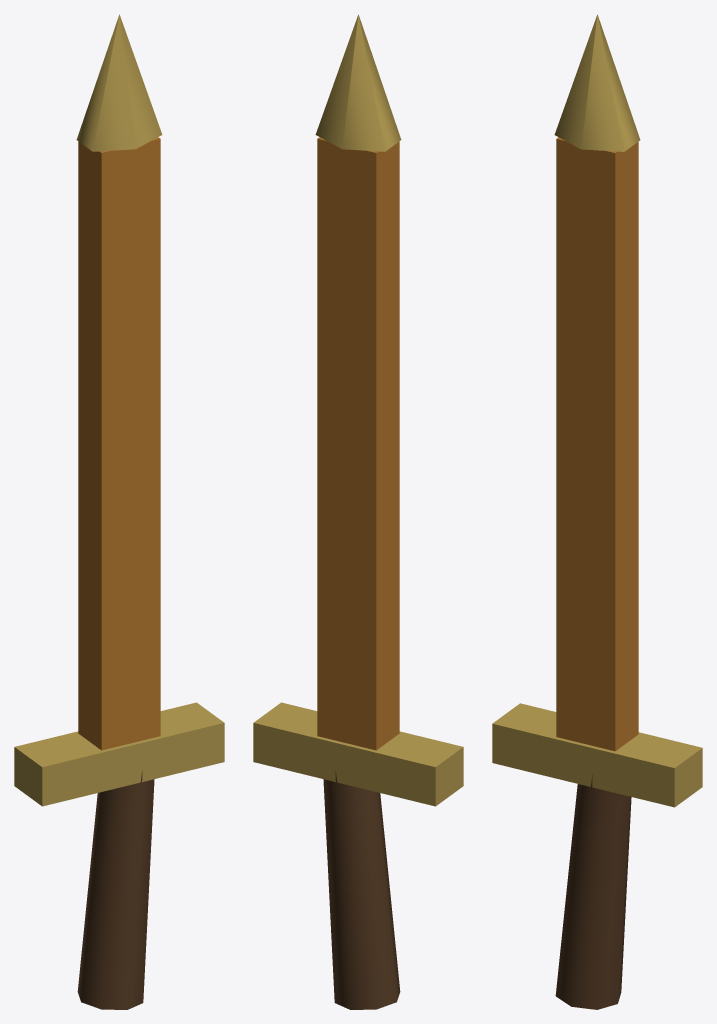
Rendered from wpn_m_07.glb.
3 renders of one model, left to right at view 1: azimuth 30°, elevation 25°; view 2: azimuth 150°, elevation 25°; view 3: azimuth 330°, elevation 25°, orthographic.
Visible parts, largest first — view 1: blade, grip, guard, tip; view 2: blade, grip, guard, tip; view 3: blade, grip, guard, tip.
Part boxes in pixels (x1=…): blade: x1=78, y1=137, x2=160, y2=750; grip: x1=77, y1=770, x2=154, y2=1009; guard: x1=14, y1=702, x2=224, y2=806; tip: x1=76, y1=14, x2=162, y2=151; blade: x1=317, y1=137, x2=399, y2=750; grip: x1=323, y1=770, x2=400, y2=1009; guard: x1=253, y1=702, x2=463, y2=806; tip: x1=315, y1=14, x2=401, y2=151; blade: x1=556, y1=137, x2=638, y2=751; grip: x1=555, y1=774, x2=631, y2=1009; guard: x1=492, y1=703, x2=702, y2=807; tip: x1=554, y1=14, x2=640, y2=151.
Size of the model in its own units: 0.34 by 1.75 by 0.11.
